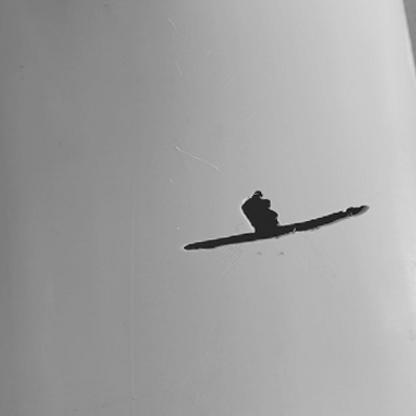fengxi: (184, 205, 371, 250)
kongdong: (237, 189, 284, 231)
